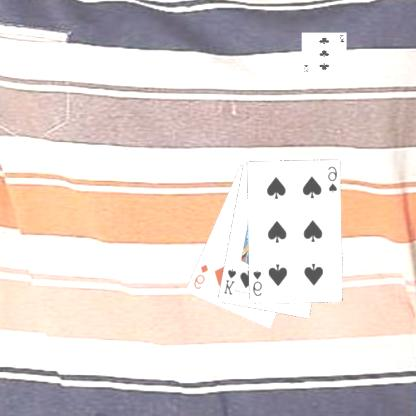6D: (192, 261, 211, 291)
6S: (326, 164, 340, 194), (252, 267, 264, 297)
KS: (223, 266, 240, 297)
